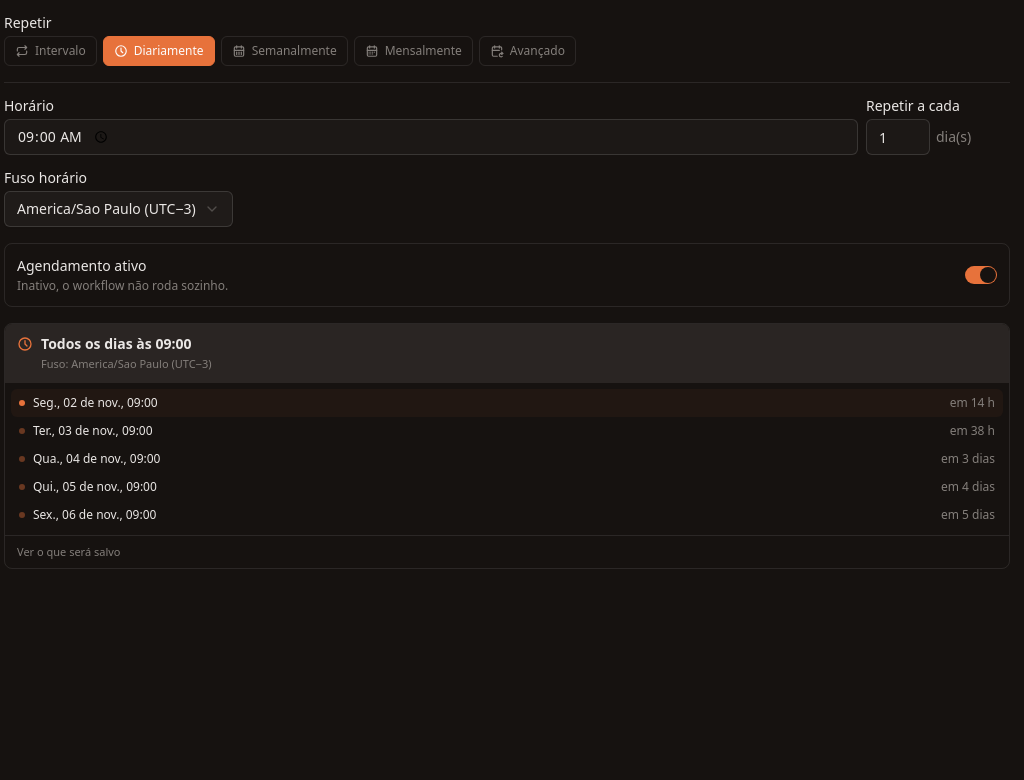
Test: ScheduleTriggerHelper — edição grava os campos canônicos › abrir a aba RRule vazia NÃO apaga o cron salvo (ALTA #2)
Click the button "Avançado" at point(527, 51), box [479, 36, 576, 66]
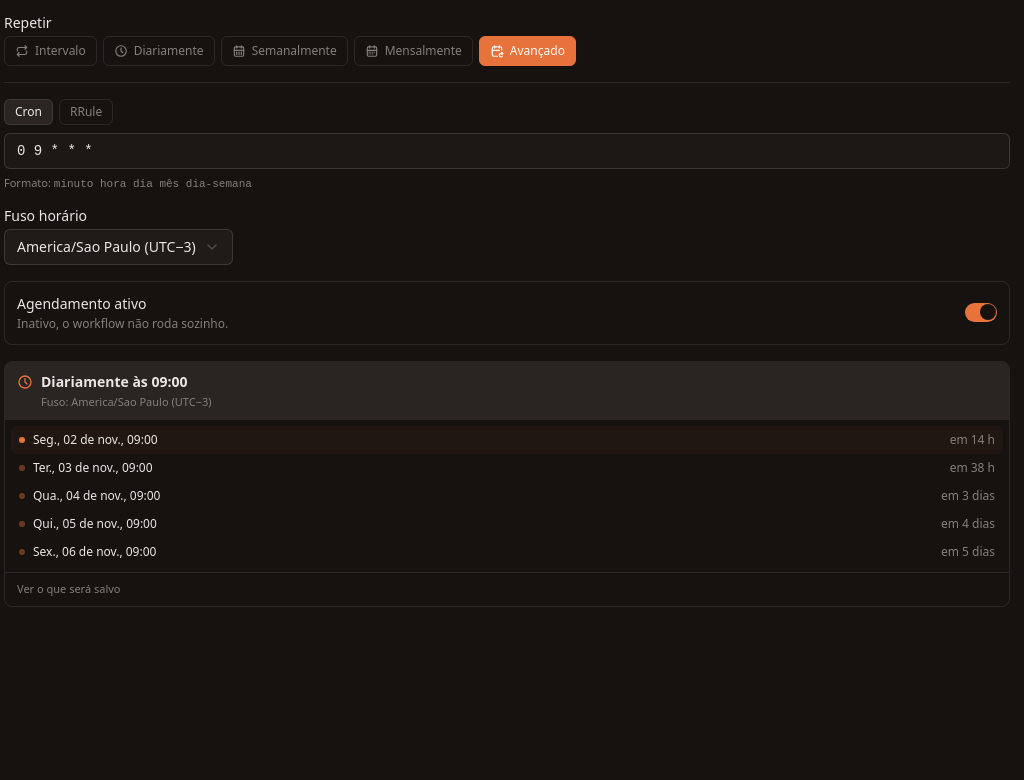
Click the button "RRule" at point(86, 112), box [59, 99, 113, 125]
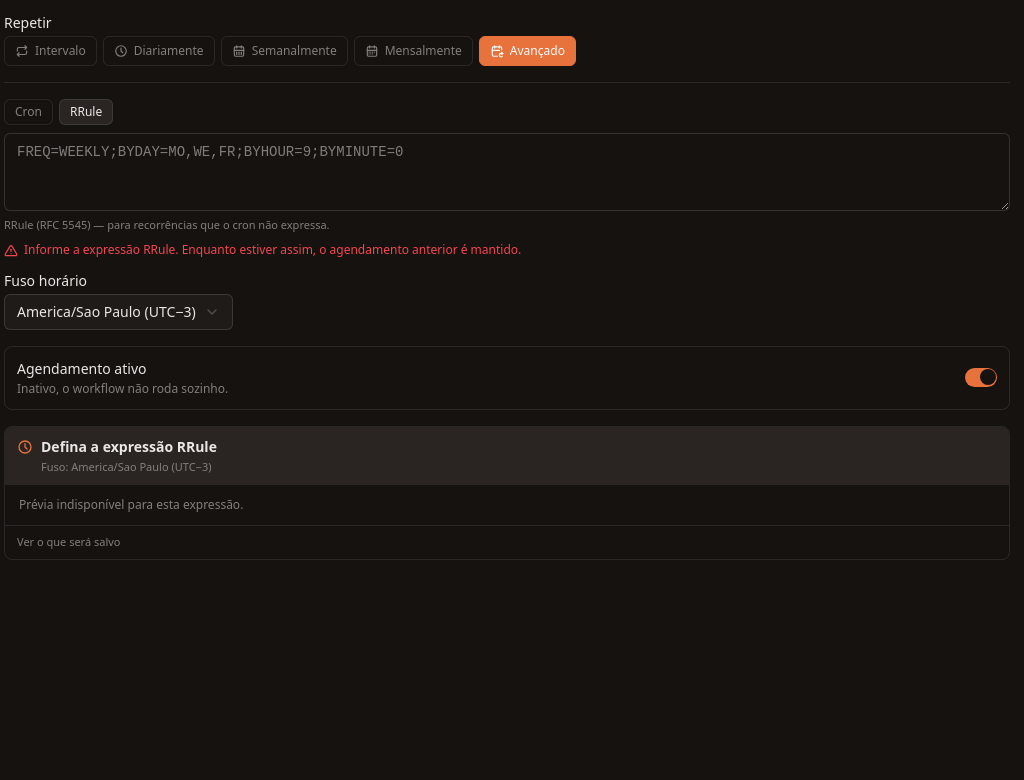
Check: the text "Informe a expressão RRule" is shown, box [24, 240, 179, 258]
